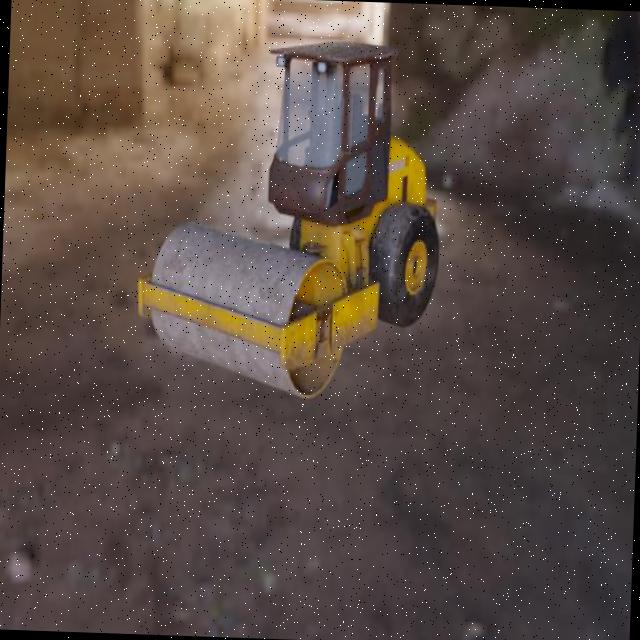Roller: (132, 33, 446, 402)
